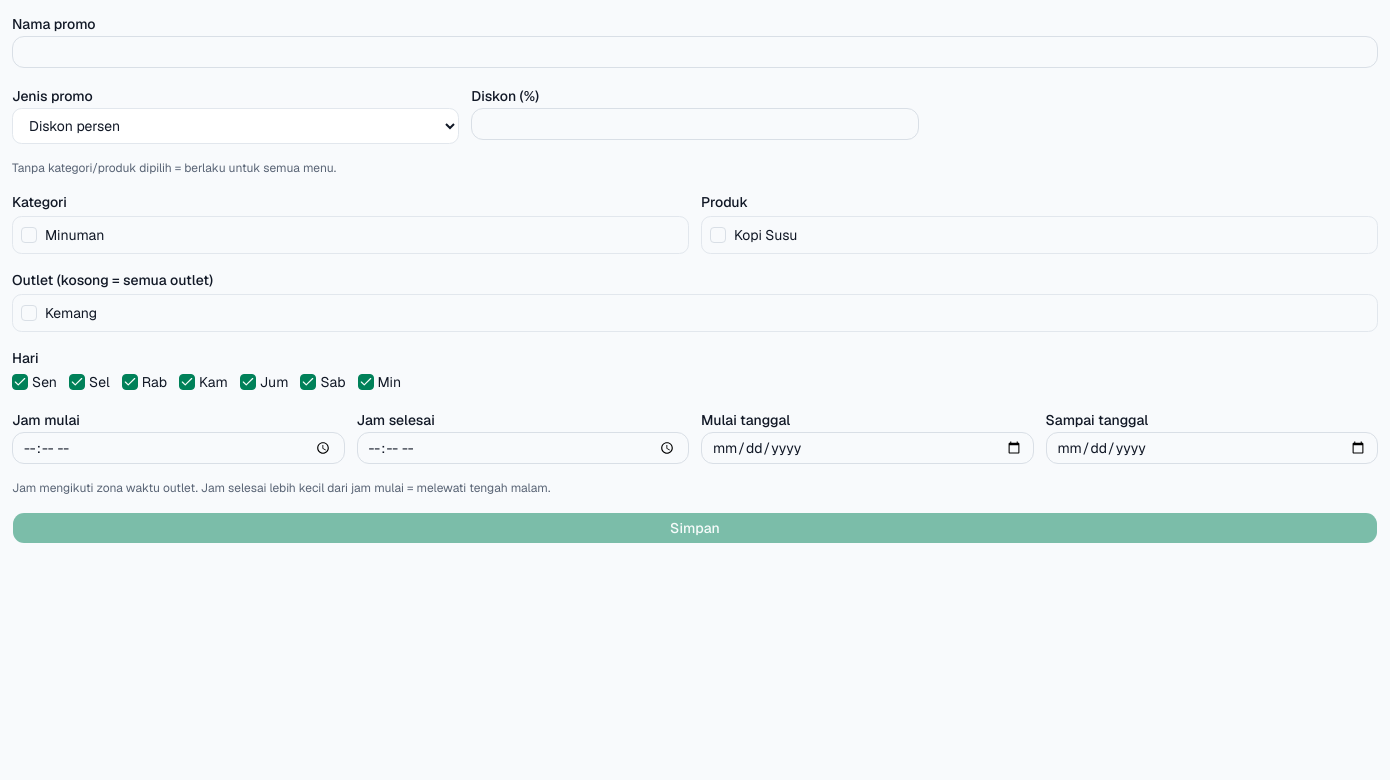
PromotionForm › needs both ends of the time window
This screenshot has width=1390, height=780.
Type "Pagi" into the field labelled "Nama promo" at (695, 52), box 12,36 -> 1378,68
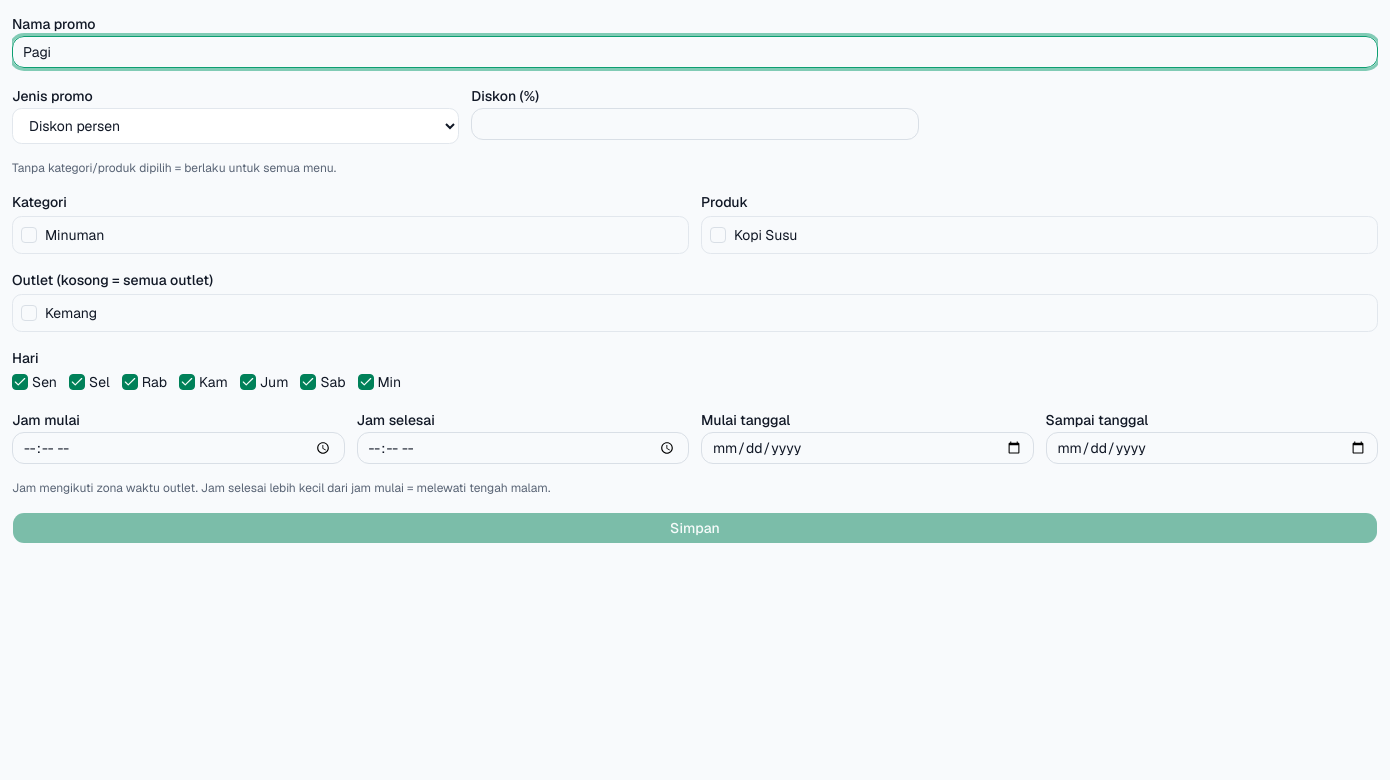
Type "10" into the field labelled "Diskon (%)" at (695, 124), box 471,108 -> 919,140
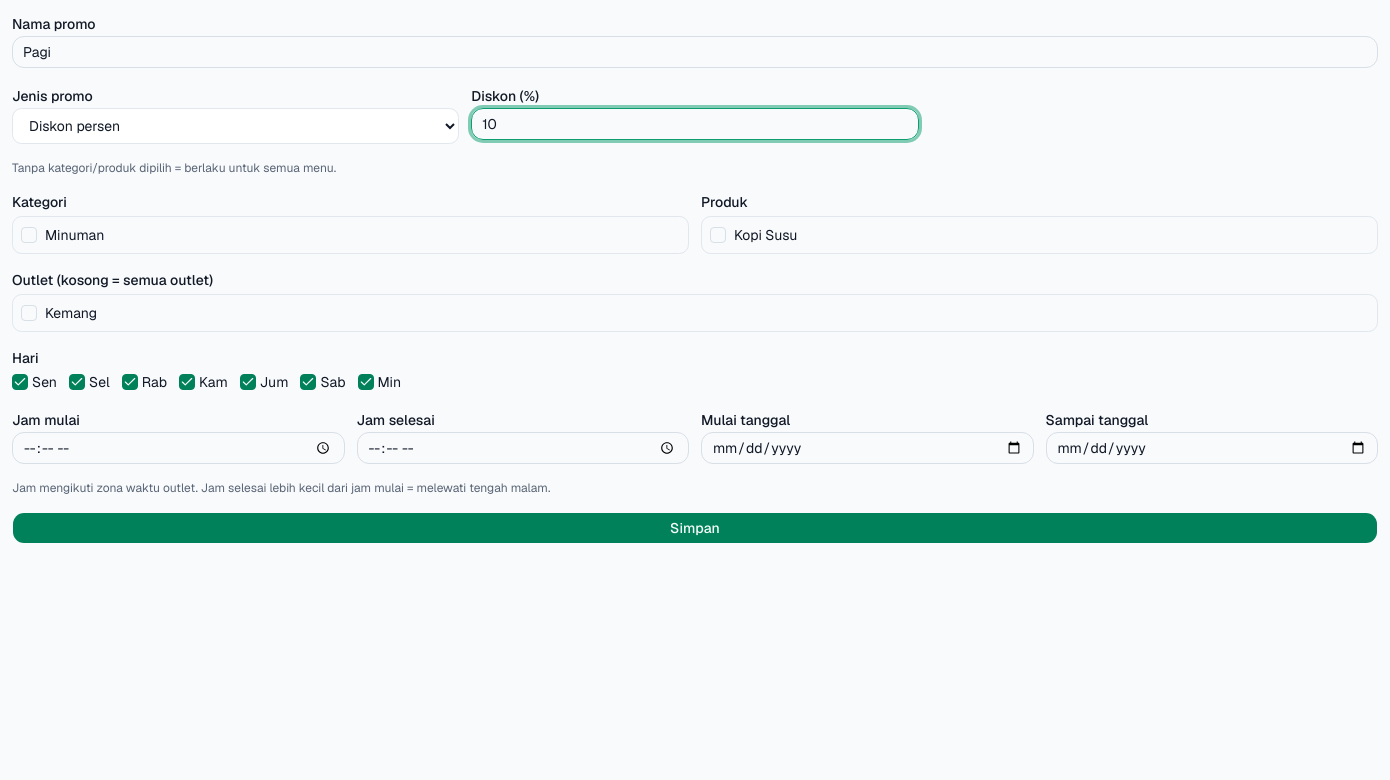
Type "07:00" into the time field labelled "Jam mulai" at (178, 448), box 12,432 -> 344,464
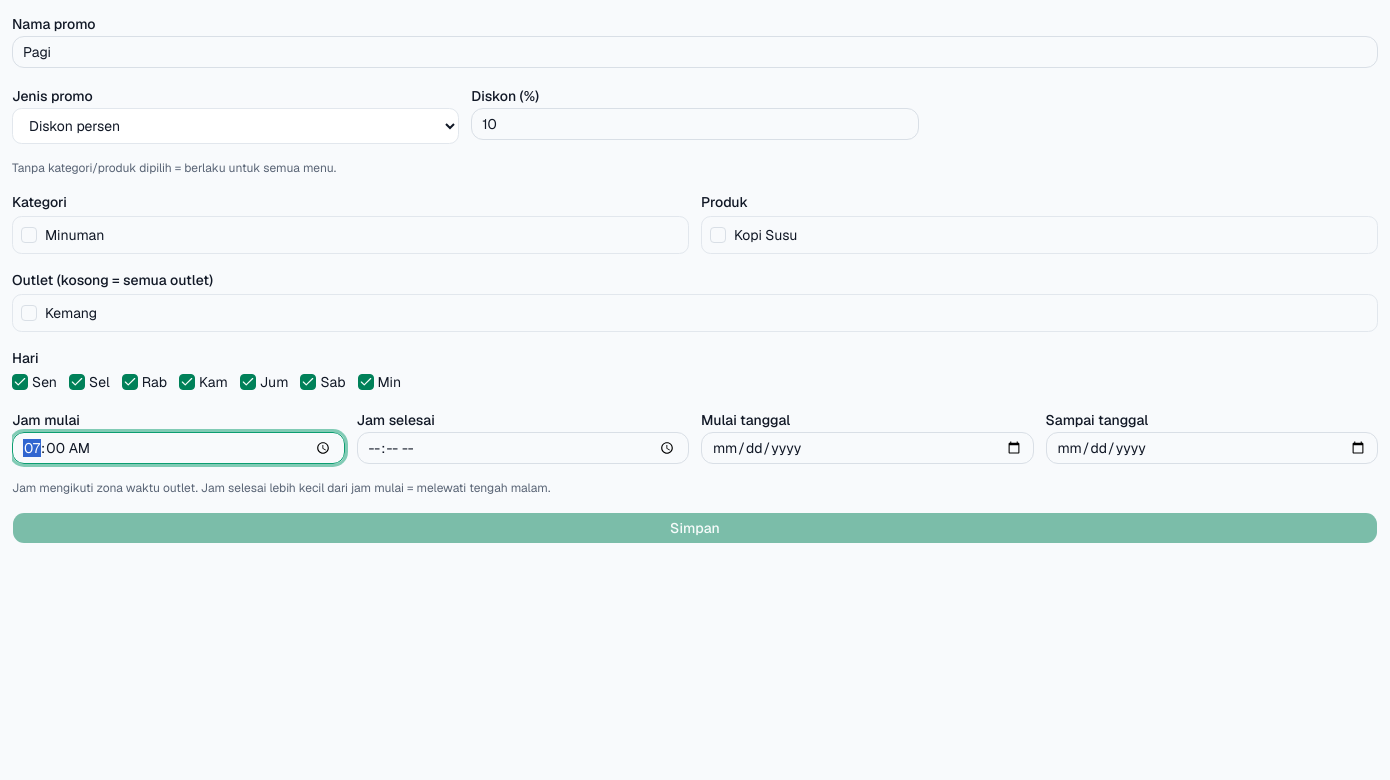
Check: the button "Simpan" is disabled, box 12,512 -> 1378,544
